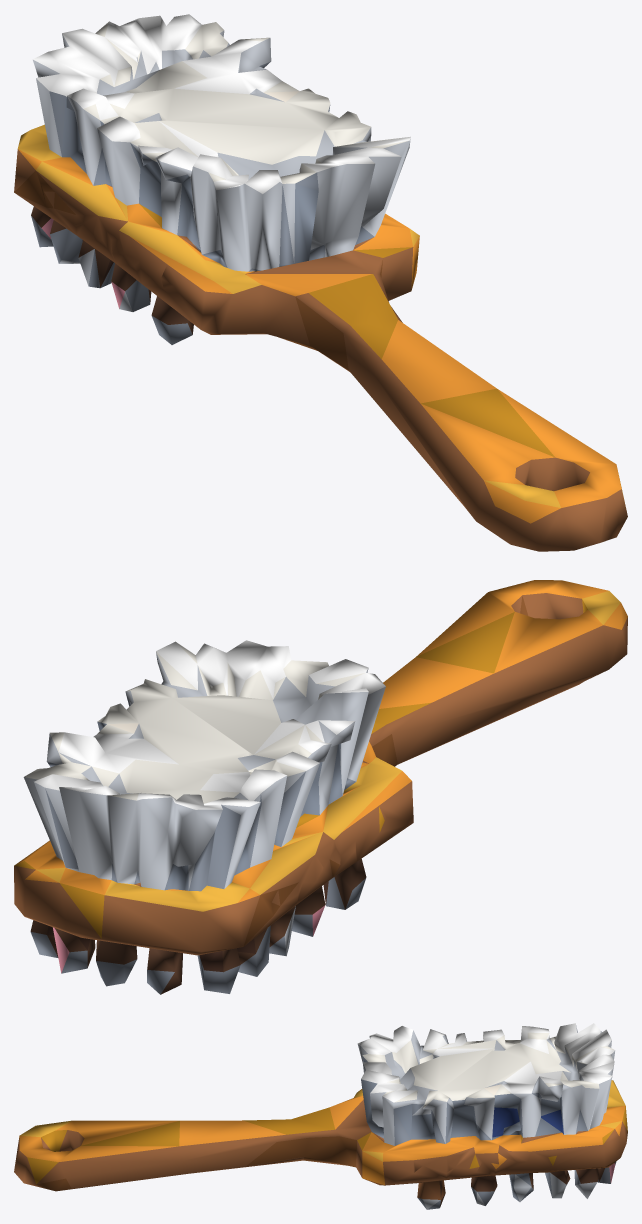
Rendered from SM_brush_scrub_wood.fbx.
3 views of the same model, one above another, from view 1: azimuth 30°, elevation 25°; view 2: azimuth 150°, elevation 25°; view 3: azimuth 270°, elevation 25° (orthographic). The views are drawn at different scales.
Parts seen in each view (by area): view 1: SM_brush_scrub_wood; view 2: SM_brush_scrub_wood; view 3: SM_brush_scrub_wood.
Boxes of the visible parts, <box> form: SM_brush_scrub_wood: <box>14,14,627,551</box>; SM_brush_scrub_wood: <box>14,580,627,994</box>; SM_brush_scrub_wood: <box>14,1023,627,1209</box>.
Size of the model in its own units: 18.21 by 15 by 62.99.
Materials: 1 (1 with a texture image).
